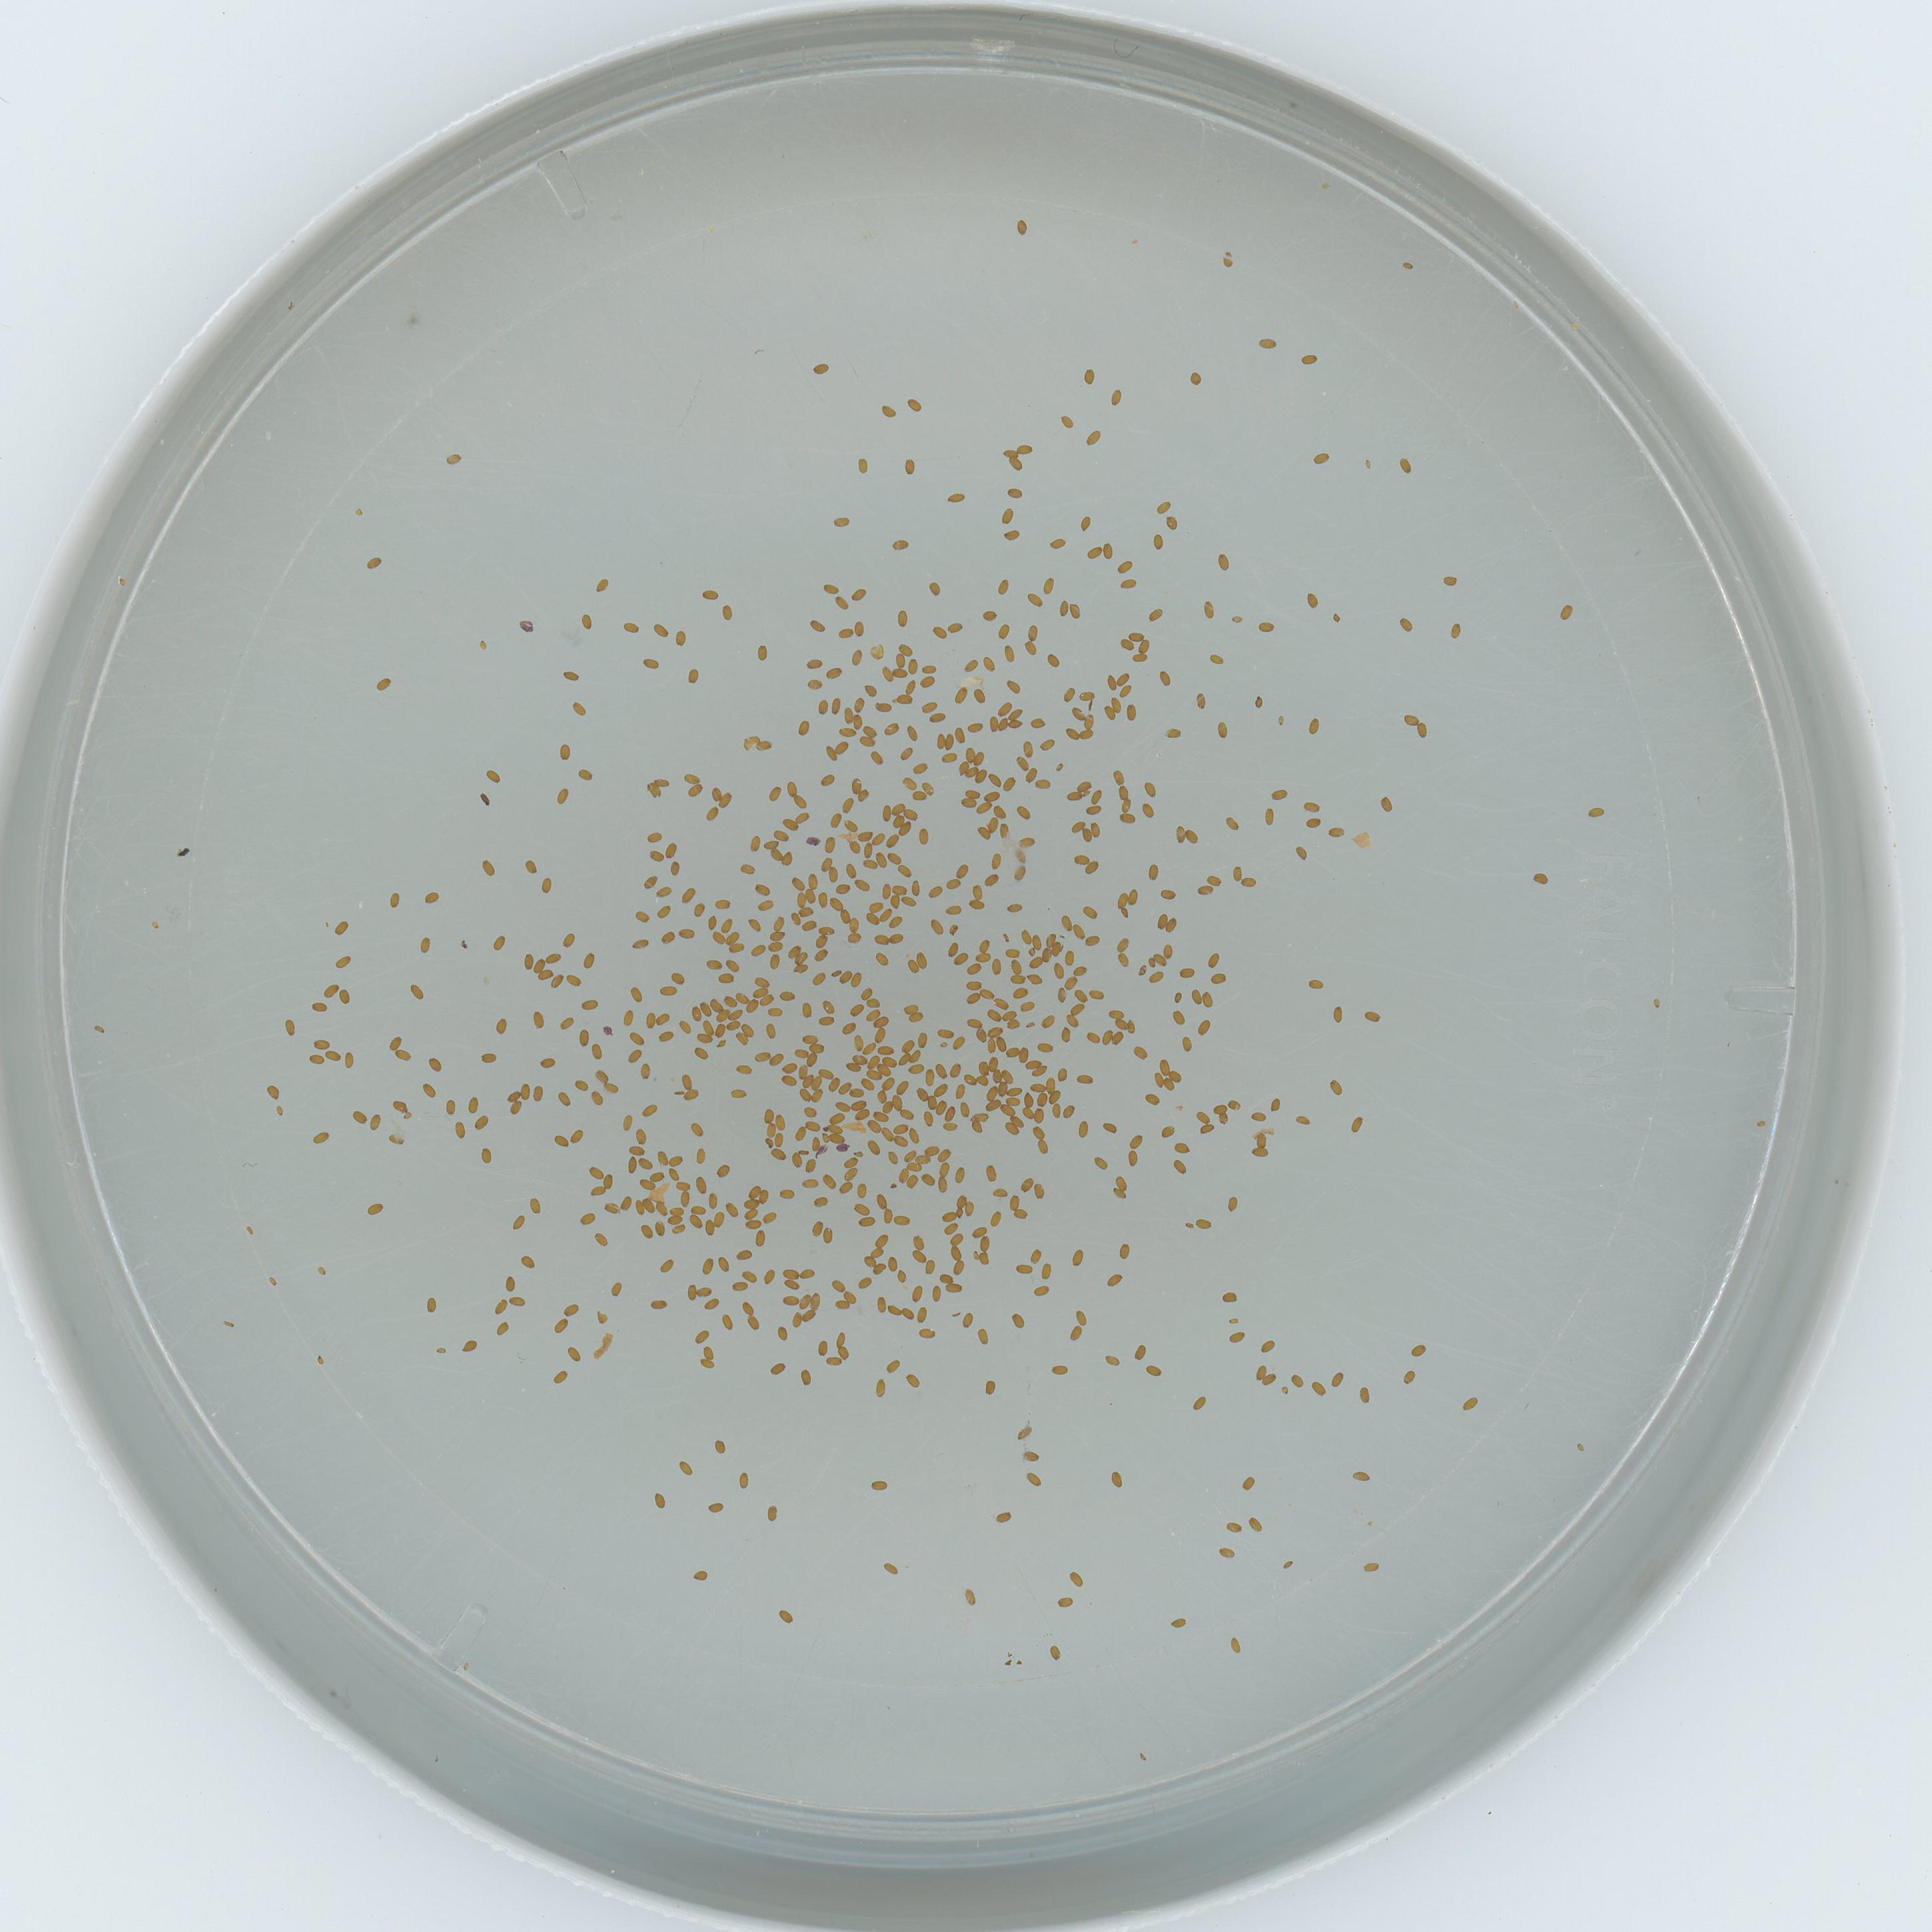seed: (1192, 1014, 1212, 1035), (982, 1161, 1001, 1182), (556, 741, 575, 761), (837, 1177, 856, 1196), (849, 584, 869, 602), (414, 936, 433, 954), (464, 1095, 483, 1113), (421, 1295, 441, 1313), (694, 1173, 711, 1192), (777, 1606, 796, 1624), (798, 1001, 816, 1021), (564, 1345, 584, 1362), (587, 1040, 607, 1058), (451, 1118, 469, 1138), (575, 1026, 594, 1044), (1557, 603, 1576, 621), (1198, 600, 1217, 617), (1212, 552, 1231, 570), (1139, 780, 1159, 798), (1168, 1155, 1187, 1173), (1238, 1474, 1258, 1491), (1106, 1470, 1125, 1488), (1024, 1470, 1042, 1490), (1171, 1138, 1191, 1155), (1460, 1394, 1479, 1412), (1168, 1007, 1187, 1024), (580, 948, 596, 970), (904, 724, 922, 741), (485, 768, 502, 786), (577, 766, 594, 784), (893, 610, 911, 628), (633, 906, 651, 924), (490, 932, 508, 950), (718, 603, 736, 621), (623, 617, 640, 635), (642, 655, 660, 672), (479, 860, 497, 878), (373, 674, 391, 692), (685, 667, 702, 685), (745, 731, 763, 748), (888, 911, 906, 929), (778, 985, 796, 1003), (814, 1339, 832, 1357), (426, 1053, 444, 1070), (750, 1230, 768, 1247), (640, 1099, 658, 1116), (626, 1044, 644, 1062), (694, 1325, 711, 1343), (264, 1081, 281, 1099), (736, 1470, 754, 1488), (520, 1251, 538, 1269), (678, 1458, 695, 1476), (531, 1010, 548, 1028), (476, 1145, 494, 1162), (651, 1491, 669, 1509), (366, 1198, 384, 1215), (658, 1254, 676, 1272), (874, 1378, 892, 1396), (442, 1097, 460, 1115), (1070, 849, 1088, 867), (1302, 798, 1320, 816), (1212, 720, 1230, 738), (1083, 426, 1100, 444), (1058, 685, 1076, 702), (1014, 803, 1031, 821), (1270, 786, 1288, 803), (1074, 513, 1092, 531), (1083, 931, 1100, 948), (1311, 448, 1329, 465), (1079, 366, 1097, 384), (1260, 809, 1277, 826), (1299, 349, 1316, 366), (994, 699, 1012, 717), (1138, 801, 1155, 819), (1099, 1116, 1116, 1134), (1217, 1543, 1235, 1560), (1067, 1569, 1085, 1587), (1143, 1361, 1161, 1378), (1348, 1115, 1366, 1132), (1076, 1070, 1093, 1088), (994, 1507, 1012, 1525), (1131, 1343, 1148, 1361), (1258, 1336, 1276, 1353), (1067, 1247, 1085, 1265), (1127, 1129, 1145, 1146), (1037, 1261, 1054, 1279), (1327, 1077, 1345, 1095), (1329, 1369, 1346, 1387), (1030, 1180, 1047, 1198), (973, 1327, 991, 1345), (1228, 1327, 1246, 1345), (1008, 1311, 1026, 1329), (1226, 1637, 1244, 1654), (755, 899, 775, 915), (658, 929, 678, 945), (679, 888, 699, 904), (651, 621, 671, 637), (334, 950, 350, 970), (685, 770, 704, 786), (796, 720, 816, 736), (844, 817, 863, 833), (632, 934, 651, 950), (766, 950, 782, 970), (725, 955, 745, 971), (853, 1201, 872, 1217), (885, 1357, 904, 1373), (524, 1196, 543, 1212), (628, 1028, 648, 1044), (796, 1368, 816, 1384), (770, 1361, 789, 1376), (632, 1125, 651, 1141), (851, 1033, 867, 1053), (998, 508, 1017, 524), (1079, 904, 1099, 920), (1157, 886, 1177, 902), (1003, 678, 1023, 694), (1162, 725, 1182, 741), (1012, 218, 1031, 234), (1033, 775, 1053, 791), (1007, 957, 1023, 977), (1111, 1173, 1131, 1189), (1307, 1380, 1327, 1396), (1408, 1341, 1428, 1357), (1049, 962, 1065, 982), (1001, 1118, 1021, 1134), (906, 955, 920, 977), (927, 918, 945, 934), (897, 863, 915, 879), (715, 895, 732, 911), (559, 931, 577, 947), (945, 902, 962, 918), (364, 554, 382, 570), (821, 771, 839, 787), (646, 830, 663, 846), (893, 534, 909, 552), (579, 612, 596, 628), (939, 750, 957, 766), (879, 402, 897, 418), (690, 902, 708, 918), (655, 904, 672, 920), (947, 488, 964, 504), (688, 784, 706, 800), (754, 881, 771, 897), (423, 890, 441, 906), (915, 828, 931, 846), (656, 885, 674, 901), (768, 786, 784, 803), (899, 747, 916, 763), (844, 863, 862, 879), (810, 617, 828, 633), (740, 862, 757, 878), (901, 775, 918, 791), (837, 625, 855, 640), (678, 925, 695, 941), (747, 837, 764, 853), (538, 876, 554, 893), (807, 655, 824, 671), (901, 458, 918, 474), (807, 678, 824, 694), (646, 849, 663, 865), (869, 644, 886, 660), (855, 878, 872, 893), (386, 892, 402, 909), (849, 649, 867, 665), (563, 669, 580, 685), (814, 359, 832, 375), (855, 456, 872, 472), (920, 674, 938, 690), (869, 750, 886, 766), (672, 630, 690, 646), (522, 860, 540, 876), (878, 665, 893, 683), (945, 878, 962, 893), (833, 596, 851, 612), (747, 916, 764, 932), (828, 895, 846, 911), (824, 579, 840, 596), (826, 665, 844, 681), (885, 720, 902, 736), (333, 920, 350, 936), (801, 918, 819, 934), (796, 810, 814, 826), (847, 777, 863, 794), (821, 839, 839, 855), (833, 513, 851, 529), (814, 947, 832, 962), (793, 794, 810, 810), (646, 784, 663, 800), (660, 982, 678, 998), (885, 1148, 902, 1164), (310, 998, 327, 1014), (766, 1003, 784, 1019), (311, 1127, 329, 1143), (904, 1371, 922, 1387), (874, 1230, 892, 1246), (740, 1299, 757, 1315), (754, 1046, 771, 1062), (550, 1368, 568, 1384), (872, 1476, 890, 1491), (801, 1175, 819, 1191), (628, 985, 646, 1001), (812, 1192, 830, 1208), (651, 1295, 669, 1311), (731, 1085, 748, 1100), (849, 1000, 867, 1016), (920, 1111, 938, 1127), (580, 996, 598, 1012), (915, 1031, 932, 1047), (494, 1320, 511, 1336), (603, 1079, 621, 1095), (492, 1297, 508, 1315), (872, 1295, 890, 1311), (479, 1047, 497, 1063), (909, 1231, 927, 1247), (692, 1046, 709, 1062), (821, 996, 839, 1012), (856, 1274, 874, 1290), (895, 1210, 913, 1226), (492, 1017, 510, 1033), (692, 1146, 709, 1162), (472, 1113, 490, 1129), (764, 1504, 780, 1522), (656, 1026, 674, 1042), (619, 1008, 637, 1024), (699, 1256, 717, 1272), (745, 1315, 763, 1330), (563, 1299, 580, 1315), (594, 1065, 610, 1083), (715, 1161, 732, 1177), (350, 1106, 366, 1123), (754, 971, 771, 987), (637, 1223, 655, 1238), (770, 1145, 787, 1161), (676, 1177, 694, 1192), (341, 1051, 359, 1067), (556, 1090, 573, 1106), (683, 1284, 701, 1300), (918, 1325, 936, 1341), (736, 1060, 754, 1076), (694, 1566, 709, 1583), (812, 970, 830, 985), (366, 1113, 384, 1129), (637, 1062, 655, 1077), (895, 1077, 913, 1093), (619, 1115, 637, 1131), (678, 1017, 694, 1035), (872, 1014, 890, 1030), (637, 1154, 655, 1169), (724, 1200, 741, 1215), (745, 1217, 763, 1233), (878, 1039, 895, 1054), (943, 1219, 961, 1235), (1447, 623, 1465, 639), (1083, 545, 1100, 561), (982, 872, 1000, 888), (1327, 824, 1345, 840), (1256, 619, 1274, 635), (1024, 593, 1042, 609), (1115, 559, 1132, 575), (1010, 754, 1028, 770), (1042, 653, 1060, 669), (1021, 640, 1039, 656), (1127, 888, 1143, 906), (1070, 924, 1088, 939), (1047, 536, 1065, 552), (980, 609, 998, 625), (1017, 740, 1035, 755), (1017, 833, 1035, 849), (996, 577, 1012, 594), (1037, 736, 1054, 752), (1414, 722, 1430, 740), (1106, 389, 1123, 405), (1155, 671, 1173, 686), (968, 885, 985, 901), (1001, 646, 1019, 662), (1304, 591, 1320, 609), (1304, 718, 1322, 734), (1154, 497, 1171, 513), (1056, 913, 1072, 931), (1145, 607, 1162, 623), (1145, 863, 1161, 881), (1083, 862, 1100, 878), (1118, 575, 1136, 591), (1226, 867, 1244, 883), (1258, 334, 1276, 350), (1207, 651, 1224, 667), (1223, 816, 1240, 832), (1159, 941, 1175, 959), (1185, 370, 1203, 386), (1304, 816, 1322, 832), (1113, 892, 1129, 909), (1067, 602, 1083, 619), (1162, 513, 1178, 531), (1115, 952, 1132, 968), (980, 656, 998, 672), (1108, 770, 1125, 786), (1122, 704, 1139, 720), (1224, 1518, 1242, 1534), (1016, 1175, 1033, 1191), (1046, 1644, 1063, 1660), (1021, 1447, 1039, 1463), (984, 1005, 1001, 1021), (1265, 1095, 1283, 1111), (1189, 1396, 1207, 1412), (1104, 1270, 1122, 1286), (1035, 1037, 1053, 1053), (1017, 996, 1035, 1012), (991, 1182, 1008, 1198), (1115, 1242, 1132, 1258), (1090, 1152, 1108, 1168), (1108, 1003, 1125, 1019), (1352, 1468, 1369, 1484), (1399, 1368, 1417, 1384), (1054, 1592, 1072, 1608), (1355, 1387, 1373, 1403), (1049, 1361, 1067, 1376), (1187, 987, 1203, 1005), (1169, 1614, 1187, 1629), (1065, 1325, 1083, 1341), (1362, 1559, 1380, 1575), (1329, 1005, 1346, 1021), (1070, 1307, 1088, 1323), (1192, 1106, 1210, 1122), (1286, 1371, 1304, 1387), (1223, 1194, 1240, 1210), (1246, 1516, 1263, 1532), (1099, 1028, 1115, 1046), (1016, 1424, 1033, 1440), (474, 637, 492, 653), (1647, 996, 1665, 1012), (920, 699, 939, 713), (520, 952, 534, 971), (858, 1214, 878, 1228), (1587, 803, 1606, 817), (916, 950, 929, 971), (991, 955, 1003, 977), (642, 872, 658, 888), (846, 931, 862, 947), (842, 798, 858, 814), (945, 941, 961, 957), (837, 879, 853, 895), (899, 640, 915, 656), (446, 449, 462, 465), (925, 580, 941, 596), (931, 623, 947, 639), (828, 867, 844, 883), (786, 780, 801, 796), (704, 915, 720, 931), (853, 621, 869, 637), (702, 586, 718, 602), (706, 807, 722, 823), (874, 950, 890, 966), (947, 619, 962, 635), (665, 842, 681, 858), (878, 699, 893, 715), (667, 862, 683, 878), (828, 812, 844, 828), (847, 840, 863, 856), (874, 931, 890, 947), (594, 579, 610, 594), (720, 916, 736, 932), (708, 786, 724, 801), (886, 833, 902, 849), (571, 702, 587, 718), (878, 805, 893, 821), (754, 646, 770, 662), (556, 787, 571, 803), (518, 617, 534, 633), (895, 667, 911, 683), (793, 892, 809, 908), (867, 911, 883, 927), (897, 821, 913, 837), (860, 734, 876, 750), (893, 653, 909, 669), (531, 957, 547, 973), (656, 1008, 672, 1024), (830, 1276, 846, 1292), (909, 1284, 925, 1300), (775, 1325, 791, 1341), (805, 1157, 821, 1173), (801, 1265, 817, 1281), (580, 1208, 596, 1224), (391, 1095, 407, 1111), (867, 1139, 883, 1155), (409, 982, 425, 998), (708, 1499, 724, 1514), (559, 1014, 575, 1030), (899, 1037, 915, 1053), (308, 1049, 324, 1065), (570, 1127, 586, 1143), (823, 1173, 839, 1189), (593, 1230, 609, 1246), (761, 1106, 777, 1122), (948, 1244, 964, 1260), (679, 1072, 695, 1088), (540, 1053, 556, 1069), (947, 1062, 962, 1077), (909, 1247, 925, 1263), (874, 1191, 890, 1207), (281, 1017, 297, 1033), (336, 987, 352, 1003), (462, 1336, 478, 1352), (688, 1120, 704, 1136), (502, 1274, 518, 1290), (901, 1304, 916, 1320), (916, 1306, 932, 1322), (387, 1031, 403, 1047), (763, 1021, 778, 1037), (881, 1074, 897, 1090), (671, 970, 686, 985), (554, 1316, 570, 1332), (678, 1191, 694, 1207), (510, 1212, 525, 1228), (619, 1196, 635, 1212), (395, 1046, 410, 1062), (533, 1083, 548, 1099), (653, 1221, 669, 1237), (609, 1279, 625, 1295), (589, 1090, 605, 1106), (640, 1010, 656, 1026), (844, 1288, 860, 1304), (717, 1254, 732, 1270), (763, 1267, 778, 1283), (821, 1228, 837, 1244), (833, 1329, 849, 1345), (906, 1173, 922, 1189), (594, 1307, 610, 1323), (881, 1207, 897, 1223), (713, 1210, 729, 1226), (948, 1230, 964, 1246), (874, 1026, 890, 1042), (271, 1100, 287, 1116), (874, 1108, 890, 1123), (908, 1062, 924, 1077), (941, 1118, 957, 1134), (1150, 533, 1166, 548), (996, 623, 1012, 639), (1249, 694, 1265, 709), (1007, 485, 1023, 501), (1074, 777, 1090, 793), (1398, 616, 1414, 632), (1039, 577, 1054, 593), (1069, 817, 1085, 833), (1293, 846, 1309, 862), (1023, 623, 1039, 639), (1005, 901, 1021, 916), (1401, 713, 1417, 729), (1240, 874, 1256, 890), (971, 688, 987, 704), (987, 855, 1003, 870), (1017, 439, 1033, 455), (1191, 694, 1207, 709), (1532, 870, 1548, 886), (1127, 626, 1143, 642), (1053, 600, 1069, 616), (1058, 412, 1074, 428), (1207, 950, 1223, 966), (1028, 715, 1044, 731), (1113, 786, 1129, 801), (1067, 706, 1083, 722), (1115, 934, 1131, 950), (1077, 686, 1093, 702), (1378, 796, 1394, 812), (1152, 913, 1168, 929), (1100, 674, 1116, 690), (1164, 916, 1180, 932), (1003, 525, 1019, 541), (1100, 543, 1116, 559), (1398, 456, 1414, 472), (987, 771, 1003, 787), (1010, 867, 1026, 883), (1000, 775, 1016, 791), (1003, 945, 1019, 961), (977, 1233, 993, 1249), (1054, 1067, 1070, 1083), (1031, 1283, 1047, 1299), (1028, 1123, 1044, 1139), (1125, 1150, 1141, 1166), (1293, 1111, 1309, 1127), (1148, 970, 1164, 985), (1088, 985, 1104, 1001), (1194, 1214, 1210, 1230), (1155, 1058, 1171, 1074), (1159, 1122, 1175, 1138), (1208, 970, 1224, 985), (1132, 1044, 1148, 1060), (1177, 1033, 1192, 1049), (980, 985, 996, 1001), (987, 1208, 1003, 1224), (1102, 1352, 1118, 1368), (1039, 1012, 1054, 1028), (1221, 1288, 1237, 1304), (1111, 1030, 1127, 1046), (975, 1060, 991, 1076), (1253, 1131, 1269, 1146), (264, 1274, 280, 1290), (1361, 456, 1376, 472), (715, 1007, 731, 1023), (750, 941, 768, 955), (720, 793, 734, 810), (904, 396, 922, 410), (773, 828, 791, 842), (814, 934, 832, 948), (863, 683, 881, 697), (913, 761, 931, 775), (895, 694, 913, 708), (789, 876, 807, 890), (725, 929, 743, 943), (787, 941, 801, 959), (819, 922, 837, 936), (798, 906, 816, 920), (311, 1033, 329, 1047), (784, 1276, 801, 1290), (628, 1141, 646, 1155), (817, 1012, 835, 1026), (883, 1560, 901, 1575), (736, 1247, 754, 1261), (702, 1297, 720, 1311), (936, 1026, 954, 1040), (731, 1279, 748, 1293), (809, 1219, 823, 1237), (775, 1113, 789, 1131), (587, 1162, 605, 1177), (934, 1062, 948, 1079), (573, 1076, 591, 1090), (855, 1182, 872, 1196), (720, 1315, 738, 1329), (320, 982, 338, 996), (508, 1293, 525, 1307), (683, 1088, 701, 1102), (324, 1046, 341, 1060), (922, 1067, 936, 1085), (741, 1267, 759, 1281), (893, 1122, 911, 1136), (830, 1109, 847, 1123), (667, 1150, 685, 1164), (941, 1108, 959, 1122), (801, 1030, 819, 1044), (957, 1100, 971, 1118), (828, 1076, 842, 1093), (863, 1007, 881, 1021), (865, 1118, 883, 1132), (713, 1024, 731, 1039), (1136, 639, 1154, 653), (975, 938, 993, 952), (1196, 885, 1214, 899), (1440, 573, 1458, 587), (1116, 639, 1134, 653), (966, 720, 984, 734), (1116, 814, 1134, 828), (1203, 872, 1221, 886), (1228, 612, 1246, 626), (1010, 984, 1028, 998), (1016, 1261, 1033, 1276), (1362, 1008, 1380, 1023), (1143, 1090, 1161, 1104), (1260, 1373, 1277, 1387), (1249, 1108, 1267, 1122), (1251, 1145, 1269, 1159), (1201, 989, 1215, 1007), (743, 1207, 761, 1221), (708, 998, 725, 1012), (1012, 849, 1030, 863), (865, 998, 885, 1010), (1063, 791, 1083, 803), (642, 1196, 655, 1215), (478, 793, 492, 809), (911, 791, 927, 805), (922, 662, 938, 676), (927, 886, 943, 901), (782, 817, 798, 832), (888, 851, 904, 865), (902, 895, 918, 909), (547, 950, 563, 964), (709, 931, 725, 945), (911, 879, 925, 895), (893, 881, 909, 895), (770, 849, 786, 863), (929, 711, 945, 725), (823, 747, 839, 761), (890, 931, 906, 945), (853, 697, 869, 711), (839, 725, 855, 740), (904, 809, 920, 823), (816, 699, 830, 715), (807, 874, 821, 890), (839, 909, 855, 924), (655, 775, 671, 789), (817, 858, 832, 874), (904, 679, 920, 694), (874, 853, 890, 867), (771, 915, 787, 929), (872, 830, 888, 844), (757, 740, 773, 754), (952, 688, 966, 704), (858, 828, 874, 842), (837, 740, 851, 755), (863, 725, 879, 740), (858, 789, 874, 803), (770, 939, 786, 954), (708, 957, 722, 973), (803, 1102, 819, 1116), (793, 1046, 809, 1060), (763, 1210, 778, 1224), (840, 1021, 856, 1035), (924, 1139, 939, 1154), (702, 1343, 718, 1357), (782, 1293, 798, 1307), (929, 1286, 945, 1300), (734, 1031, 750, 1046), (851, 971, 865, 987), (902, 1000, 918, 1014), (778, 1185, 794, 1200), (713, 1440, 729, 1454), (895, 1269, 911, 1283), (718, 971, 734, 985), (782, 1074, 798, 1088), (938, 1161, 952, 1177), (603, 1200, 619, 1214), (939, 1269, 954, 1284), (699, 1283, 715, 1297), (888, 1300, 902, 1316), (950, 1037, 966, 1051), (924, 1258, 939, 1272), (938, 1146, 954, 1161), (761, 991, 777, 1005), (934, 1079, 948, 1095), (920, 1171, 936, 1185), (793, 1125, 809, 1139), (566, 971, 582, 985), (421, 1081, 437, 1095), (909, 1127, 925, 1141), (697, 1030, 713, 1044), (706, 1191, 722, 1205), (947, 1279, 962, 1293), (817, 1065, 833, 1079), (872, 1261, 888, 1276), (839, 1345, 853, 1361), (950, 1260, 966, 1274), (589, 1182, 605, 1196), (665, 1166, 681, 1180), (655, 1201, 669, 1217), (881, 1127, 895, 1143), (548, 973, 564, 987), (510, 1099, 524, 1115), (699, 1357, 715, 1371), (805, 1053, 819, 1069), (745, 1184, 761, 1198), (839, 968, 853, 984), (702, 1017, 717, 1033), (690, 1201, 706, 1215), (782, 1058, 798, 1072), (901, 1108, 916, 1122), (936, 1177, 950, 1192), (835, 1099, 851, 1113), (809, 1042, 824, 1056), (688, 1007, 704, 1021), (810, 1292, 826, 1306), (770, 1053, 786, 1067), (893, 1168, 909, 1182), (653, 1148, 669, 1162), (504, 1088, 520, 1102), (858, 985, 874, 1000), (846, 1060, 862, 1074), (732, 989, 748, 1003), (715, 1007, 731, 1021), (862, 1253, 878, 1267), (389, 1131, 405, 1145), (807, 1136, 823, 1150), (1062, 950, 1077, 964), (991, 805, 1007, 819), (1062, 729, 1077, 743), (1085, 803, 1100, 817), (984, 791, 1000, 805), (968, 901, 984, 915), (996, 823, 1010, 839), (975, 824, 991, 839), (1185, 828, 1200, 844), (1115, 671, 1131, 685), (1001, 444, 1017, 458), (1116, 685, 1132, 699), (1088, 789, 1104, 803), (1007, 456, 1023, 471), (1099, 706, 1115, 720), (1049, 941, 1063, 957), (973, 768, 987, 784), (1171, 828, 1185, 844), (1017, 929, 1031, 945), (1154, 952, 1168, 968), (971, 752, 987, 766), (1219, 251, 1233, 267), (1030, 932, 1044, 948), (970, 1223, 985, 1237), (982, 1380, 998, 1394), (1307, 977, 1323, 991), (1026, 1247, 1042, 1261), (1033, 1139, 1047, 1155), (1226, 1095, 1242, 1109), (1049, 1102, 1063, 1118), (993, 993, 1008, 1007), (1062, 1104, 1076, 1120), (966, 1589, 980, 1605), (1168, 991, 1184, 1005), (1053, 987, 1069, 1001), (1012, 1207, 1028, 1221), (1072, 989, 1088, 1003), (1026, 971, 1042, 985), (1178, 966, 1194, 980), (1251, 1364, 1265, 1380), (1210, 1100, 1224, 1116), (1086, 1030, 1102, 1044), (1125, 1017, 1139, 1033), (1005, 1044, 1021, 1058), (1007, 1192, 1021, 1208), (1030, 1081, 1046, 1095), (1001, 1007, 1017, 1021), (1069, 1001, 1085, 1016), (987, 1069, 1003, 1083), (973, 1072, 989, 1086), (966, 962, 982, 977), (1044, 1077, 1058, 1093), (1178, 1217, 1194, 1231), (1026, 1056, 1040, 1072), (985, 1099, 1001, 1113), (313, 1353, 329, 1368), (113, 575, 129, 589), (925, 1095, 939, 1111), (865, 1056, 881, 1070), (878, 1065, 893, 1079), (966, 764, 980, 780), (729, 941, 745, 955), (242, 1223, 258, 1237), (764, 837, 782, 849), (826, 1355, 844, 1368), (602, 1171, 614, 1189), (954, 1081, 966, 1099), (939, 1208, 957, 1221), (906, 1010, 924, 1023), (954, 1192, 966, 1210), (651, 1168, 669, 1180), (633, 1200, 646, 1217), (1007, 718, 1024, 731), (973, 952, 991, 964), (1115, 801, 1132, 814), (985, 1026, 1003, 1039), (985, 1037, 998, 1054), (996, 1081, 1008, 1099), (853, 1109, 872, 1120), (787, 911, 801, 925), (862, 844, 876, 858), (816, 892, 830, 906), (924, 780, 938, 794), (853, 715, 867, 729), (782, 851, 796, 865), (892, 801, 906, 816), (847, 918, 862, 932), (952, 952, 966, 966), (798, 1086, 812, 1100), (784, 1263, 798, 1277), (909, 1049, 924, 1063), (639, 1177, 653, 1191), (552, 1132, 566, 1146), (625, 1157, 639, 1171), (688, 1214, 702, 1228), (810, 1088, 824, 1102), (915, 1088, 929, 1102), (722, 993, 736, 1007), (313, 1263, 327, 1277), (435, 1343, 449, 1357), (936, 1040, 950, 1054), (715, 1037, 729, 1051), (1023, 768, 1037, 782), (966, 658, 980, 672), (1088, 823, 1102, 837), (984, 817, 998, 832), (966, 787, 980, 801), (1115, 906, 1129, 920), (1083, 699, 1097, 713), (1028, 955, 1042, 970), (1058, 1028, 1072, 1042), (1001, 1069, 1016, 1083), (1035, 1092, 1049, 1106), (966, 993, 980, 1007), (1047, 1090, 1062, 1104), (1021, 1106, 1035, 1120), (1065, 1014, 1079, 1028), (1162, 1077, 1177, 1092), (869, 901, 885, 913), (879, 885, 892, 901), (954, 865, 966, 881), (863, 860, 879, 872), (794, 950, 810, 962), (955, 761, 968, 777), (807, 890, 819, 906), (888, 1254, 901, 1270), (518, 1081, 531, 1097), (803, 1309, 819, 1322), (741, 1021, 757, 1033), (833, 1299, 849, 1311), (952, 1166, 964, 1182), (672, 1221, 688, 1233), (759, 1189, 771, 1205), (798, 1293, 814, 1306), (906, 1161, 922, 1173), (538, 968, 554, 980), (844, 1168, 860, 1180), (731, 1005, 747, 1017), (879, 1100, 895, 1113), (400, 1109, 416, 1122), (669, 1205, 685, 1217), (874, 1088, 890, 1100), (801, 1072, 814, 1088), (975, 803, 991, 816), (1131, 653, 1146, 665), (1077, 731, 1093, 743), (1077, 830, 1093, 842), (1044, 931, 1056, 947), (1077, 1122, 1090, 1138), (966, 1016, 982, 1028), (975, 1026, 987, 1042), (1063, 977, 1079, 989), (1198, 1122, 1214, 1134), (1168, 1069, 1184, 1081), (1072, 964, 1088, 977), (1109, 1187, 1125, 1200), (1008, 973, 1024, 985), (1010, 1115, 1026, 1127), (1031, 1065, 1047, 1077), (934, 1100, 947, 1116), (867, 1069, 883, 1081), (961, 798, 977, 810), (832, 697, 842, 715), (770, 929, 787, 939), (996, 1035, 1007, 1053), (1152, 1070, 1162, 1088), (962, 1311, 973, 1329), (849, 1100, 867, 1111), (796, 1063, 807, 1081), (888, 895, 901, 909), (842, 708, 855, 722), (789, 1315, 803, 1327), (862, 1077, 876, 1090), (747, 1000, 761, 1012), (893, 1134, 908, 1146), (727, 1021, 741, 1033), (807, 1118, 821, 1131), (810, 1077, 824, 1090), (904, 1148, 918, 1161), (899, 1053, 913, 1065), (863, 1042, 878, 1054), (920, 1150, 934, 1162), (764, 1122, 777, 1136), (699, 1000, 711, 1014), (1109, 699, 1122, 713), (1329, 612, 1343, 625), (978, 1251, 991, 1265), (1113, 1016, 1125, 1030), (1276, 1384, 1290, 1396), (1031, 1109, 1046, 1122), (1017, 1047, 1030, 1062), (987, 1056, 1000, 1070), (973, 1109, 987, 1122), (1005, 1017, 1019, 1030), (985, 1086, 998, 1100), (964, 1072, 977, 1086), (149, 918, 161, 932), (92, 1023, 104, 1037), (1401, 258, 1414, 272), (1138, 1750, 1152, 1762), (828, 1122, 842, 1134), (966, 745, 975, 764), (954, 729, 964, 745), (879, 909, 895, 920), (791, 1152, 801, 1168), (849, 1088, 865, 1099), (890, 1095, 906, 1106), (1007, 709, 1023, 720), (966, 980, 982, 991), (1003, 1095, 1019, 1106), (998, 1104, 1014, 1115), (1007, 1088, 1023, 1099), (1276, 713, 1286, 729), (853, 1054, 869, 1065), (667, 1214, 683, 1224), (948, 920, 959, 936), (945, 732, 954, 750), (966, 1200, 975, 1217), (936, 732, 945, 750), (893, 816, 906, 828), (775, 1134, 787, 1146), (872, 1246, 885, 1258), (702, 1223, 715, 1235), (883, 1054, 895, 1067), (839, 1079, 851, 1092), (1083, 717, 1095, 729), (1053, 761, 1065, 773), (971, 1122, 984, 1134), (1024, 1019, 1037, 1031), (1217, 1113, 1230, 1125), (1575, 1442, 1587, 1454), (1281, 1559, 1293, 1571), (909, 660, 920, 674), (844, 1155, 858, 1166), (745, 1198, 759, 1208), (989, 717, 1000, 731), (1040, 948, 1051, 962), (462, 1660, 472, 1674), (830, 1134, 844, 1145), (998, 718, 1008, 732), (793, 966, 809, 975), (1021, 1093, 1033, 1104), (1136, 964, 1146, 977), (1146, 957, 1157, 970), (754, 987, 764, 998), (1026, 945, 1037, 955), (1228, 1316, 1238, 1327), (1755, 1120, 1767, 1129), (763, 1138, 775, 1146), (798, 1148, 810, 1157), (821, 1134, 832, 1143), (955, 1207, 962, 1219), (971, 1249, 978, 1261)
